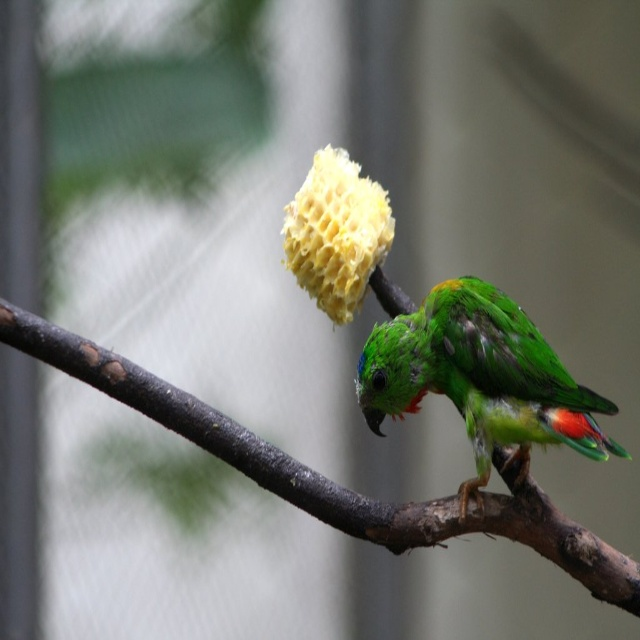Parrot: (353, 257, 633, 537)
